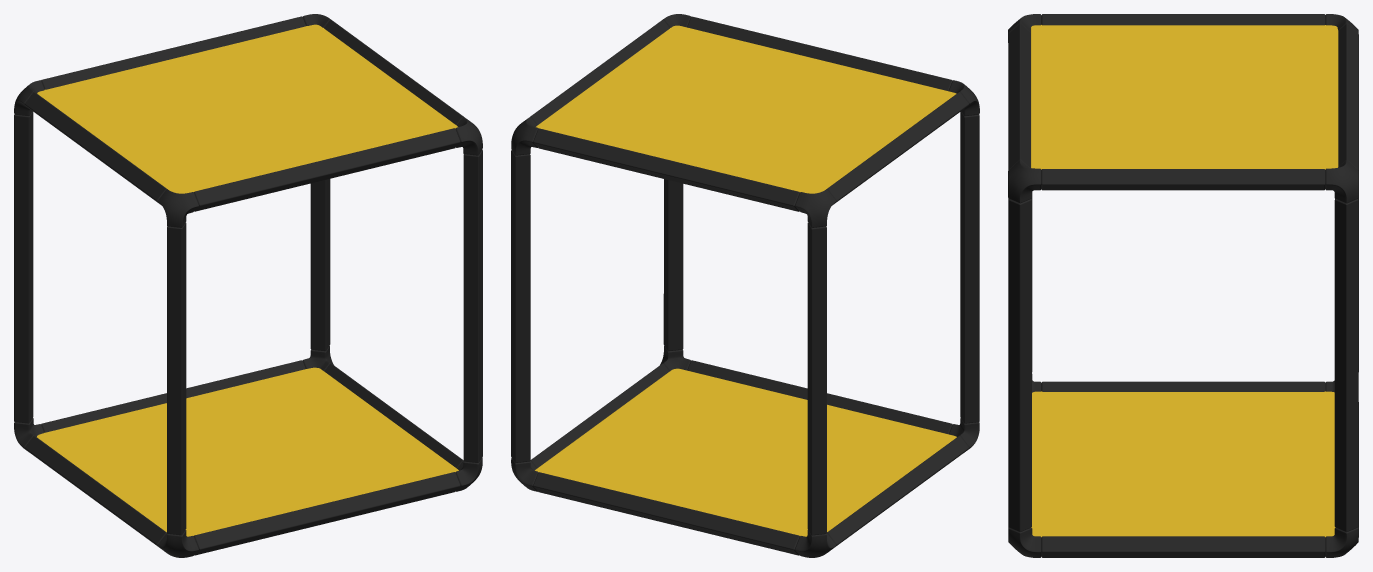
The picture shows the model from 3 angles, left to right: view 1: azimuth 30°, elevation 25°; view 2: azimuth 150°, elevation 25°; view 3: azimuth 270°, elevation 25°; orthographic projection. The views are drawn at different scales.
Parts seen in each view (by area): view 1: 374x329x420; view 2: 374x329x420; view 3: 374x329x420.
Part boxes in pixels (<box>): 374x329x420: <box>14,14,482,557</box>; 374x329x420: <box>511,14,979,557</box>; 374x329x420: <box>1008,14,1358,557</box>.
Size of the model in its own units: 0.4517 by 0.4976 by 0.4063.
